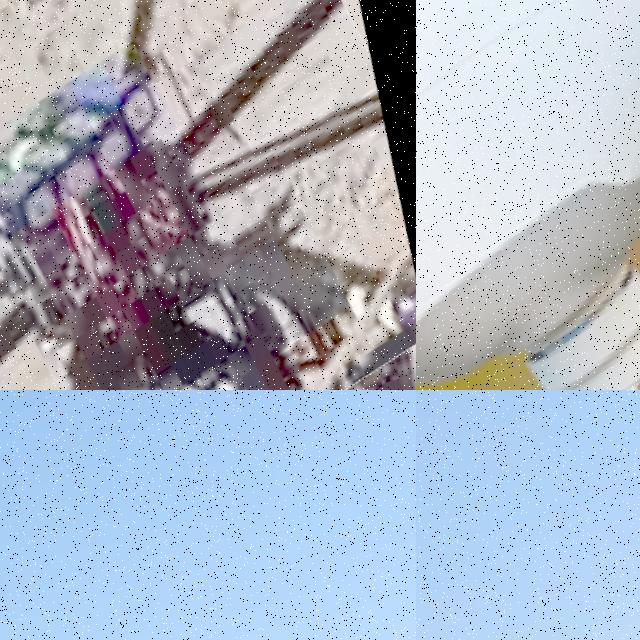drone: (0, 0, 416, 390), (416, 0, 640, 390)
